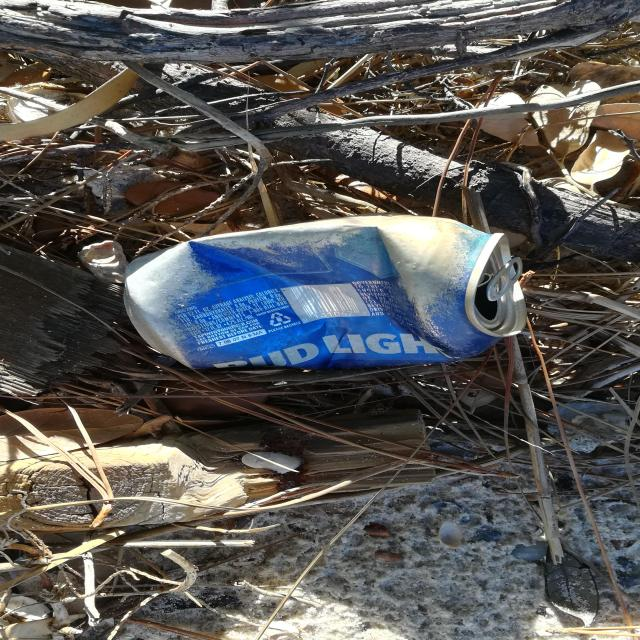litter: (124, 212, 527, 371)
